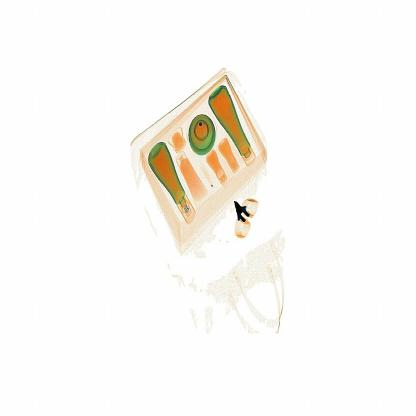gun: (222, 198, 270, 250)
